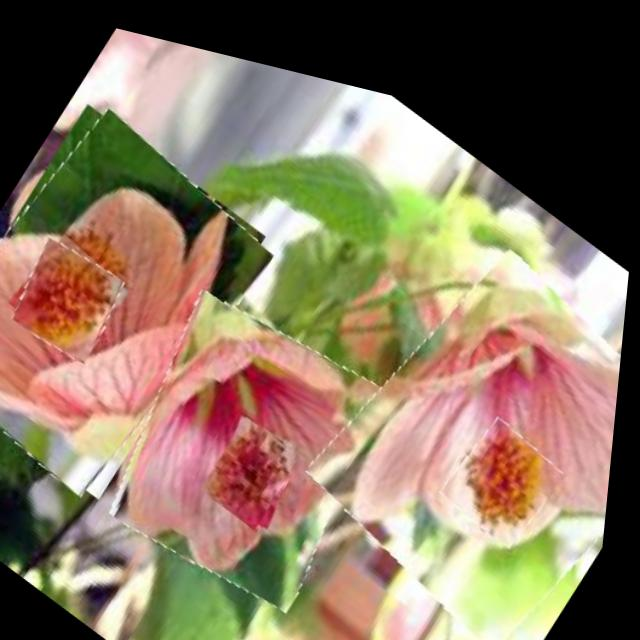Flower: (301, 179, 631, 640), (0, 73, 285, 531), (87, 244, 416, 633), (7, 220, 139, 372), (444, 380, 575, 533), (206, 396, 313, 526)
